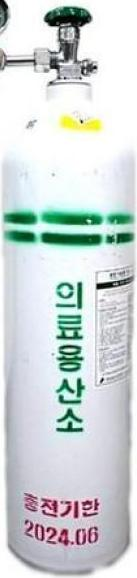cylinder: (1, 1, 137, 578)
